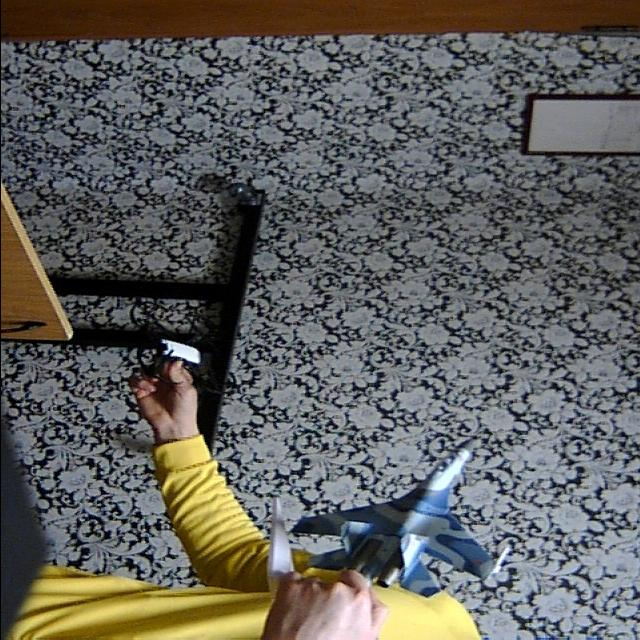drone: (120, 291, 254, 408)
